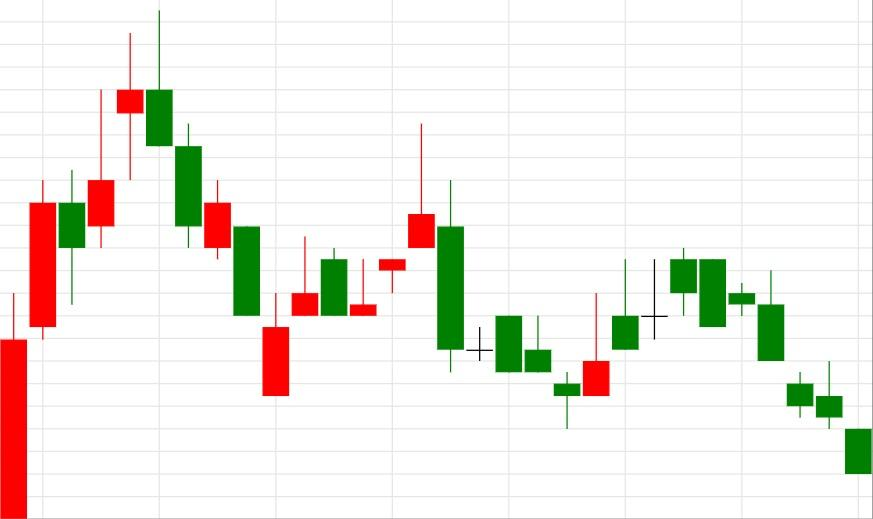shooting_star_fall: (262, 124, 436, 396)
